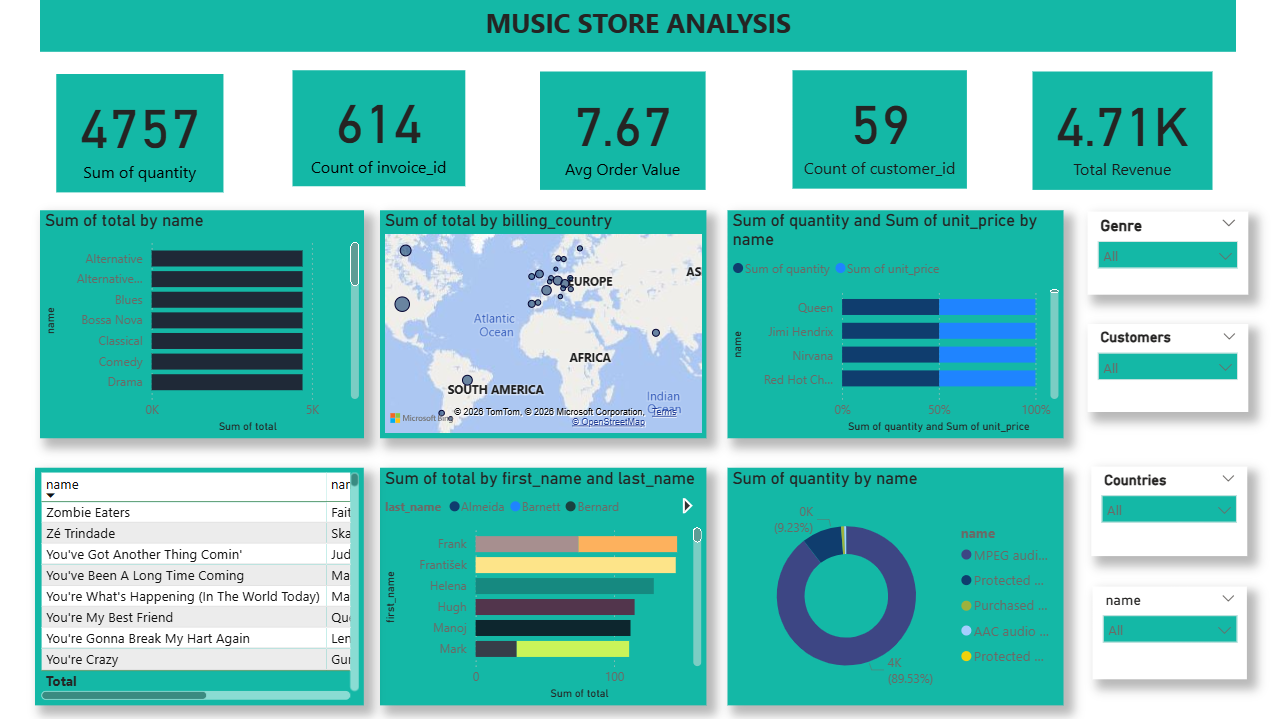

What the dashboard file says about the page in this screenshot:
{"tool":"powerbi","page":{"name":"Page 1","canvas":[1280,720],"ordinal":0},"visuals":[{"type":"textbox","box":[40,0,1196.4,52.7],"z":0},{"type":"card","fields":{"Values":["Invoice.total"]},"box":[56.4,74.5,167.3,118.2],"z":1000},{"type":"card","fields":{"Values":["Customers.customer_id"]},"box":[792.7,70.9,174.5,118.2],"z":2000},{"type":"card","fields":{"Values":["Invoiceline.invoice_line_id"]},"box":[1032.7,72.7,180,118.2],"z":3000},{"type":"card","fields":{"Values":["Invoice.invoice_id"]},"box":[292.7,70.9,172.7,116.4],"z":4000},{"type":"card","fields":{"Values":["Invoiceline.quantity"]},"box":[540,72.7,165.5,118.2],"z":5000},{"type":"barChart","fields":{"Category":["Genre.name"],"Y":["Invoice.total"]},"box":[39.8,210.8,324.1,227.7],"z":6000},{"type":"barChart","fields":{"Category":["Customers.first_name"],"Series":["Customers.last_name"],"Y":["Invoice.total"]},"box":[379.5,468.7,326.5,237.3],"z":7000},{"type":"map","fields":{"Category":["Invoice.billing_country"],"Size":["Invoice.total"]},"box":[379.5,210.8,326.5,227.7],"z":8000},{"type":"hundredPercentStackedBarChart","fields":{"Category":["Artist.name"],"Y":["Invoiceline.quantity","Invoiceline.unit_price"]},"box":[727.7,210.8,336.1,227.7],"z":9000},{"type":"tableEx","fields":{"Values":["Tracks.name","Artist.name","Invoiceline.quantity"]},"box":[34.9,468.7,328.9,237.3],"z":10000},{"type":"donutChart","fields":{"Category":["MediaType.name"],"Y":["Invoiceline.quantity"]},"box":[727.7,468.7,336.1,237.3],"z":11000},{"type":"slicer","fields":{"Values":["Genre.name"]},"box":[1086.9,211.9,160.7,83.3],"z":11001},{"type":"slicer","fields":{"Values":["Artist.name"]},"box":[1086.9,325,160.7,88.1],"z":11002},{"type":"slicer","fields":{"Values":["MediaType.name"]},"box":[1092.9,586.9,154.8,92.9],"z":11003},{"type":"slicer","fields":{"Values":["Invoice.billing_country"]},"box":[1091.7,467.9,156,89.3],"z":11004}]}

Visuals, with their boxes in screenshot pixels (x1, y1, x2, y2), scaled from the page's 1280x720 canvas onto the 1276x719 screenshot:
textbox: locate(40, 0, 1233, 53)
card - Invoice.total: locate(56, 74, 223, 192)
card - Customers.customer_id: locate(790, 71, 964, 189)
card - Invoiceline.invoice_line_id: locate(1029, 73, 1209, 191)
card - Invoice.invoice_id: locate(292, 71, 464, 187)
card - Invoiceline.quantity: locate(538, 73, 703, 191)
barChart - Genre.name x Invoice.total: locate(40, 211, 363, 438)
barChart - Customers.first_name x Customers.last_name: locate(378, 468, 704, 705)
map - Invoice.billing_country x Invoice.total: locate(378, 211, 704, 438)
hundredPercentStackedBarChart - Artist.name x Invoiceline.quantity: locate(725, 211, 1060, 438)
tableEx - Tracks.name x Artist.name: locate(35, 468, 363, 705)
donutChart - MediaType.name x Invoiceline.quantity: locate(725, 468, 1060, 705)
slicer - Genre.name: locate(1084, 212, 1244, 295)
slicer - Artist.name: locate(1084, 325, 1244, 413)
slicer - MediaType.name: locate(1089, 586, 1244, 679)
slicer - Invoice.billing_country: locate(1088, 467, 1244, 556)
